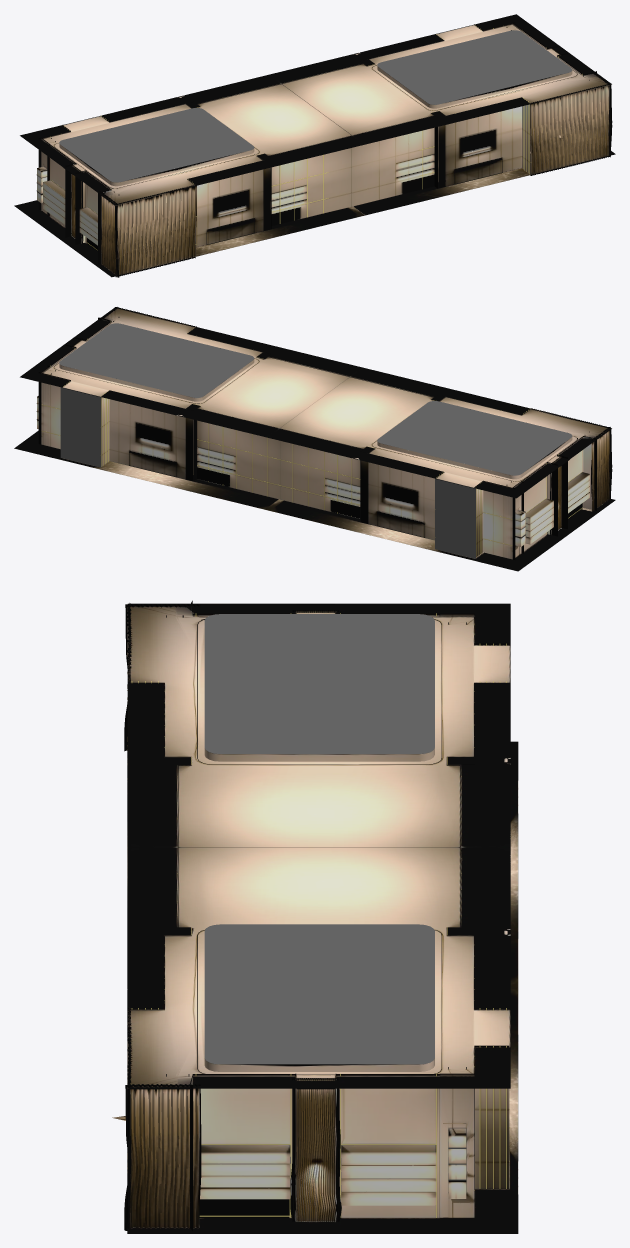
The model's file is luxoo.glb.
3 renders of one model, top to bottom at view 1: azimuth 30°, elevation 25°; view 2: azimuth 150°, elevation 25°; view 3: azimuth 270°, elevation 25°, orthographic. The views are drawn at different scales.
Parts seen in each view (by area): view 1: polySurface235.001, polySurface235.003; view 2: polySurface235.001, polySurface235.003; view 3: polySurface235.001, polySurface235.003.
Part boxes in pixels (x1,y1,x2,y2): polySurface235.001: [14, 14, 615, 277]; polySurface235.003: [59, 25, 473, 182]; polySurface235.001: [14, 307, 615, 571]; polySurface235.003: [60, 387, 572, 558]; polySurface235.001: [112, 600, 518, 1233]; polySurface235.003: [204, 614, 434, 753].
Size of the model in its own units: 0.8105 by 0.1164 by 0.2829.
Materials: 7 (7 with a texture image).
